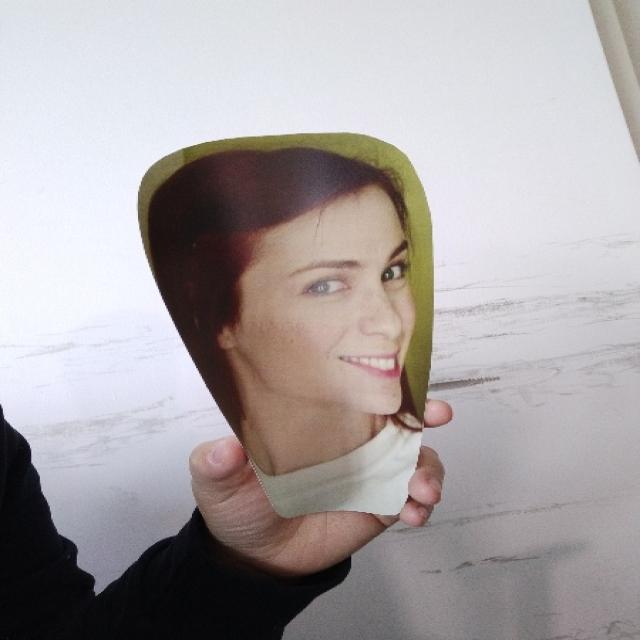photo: (134, 125, 485, 578)
